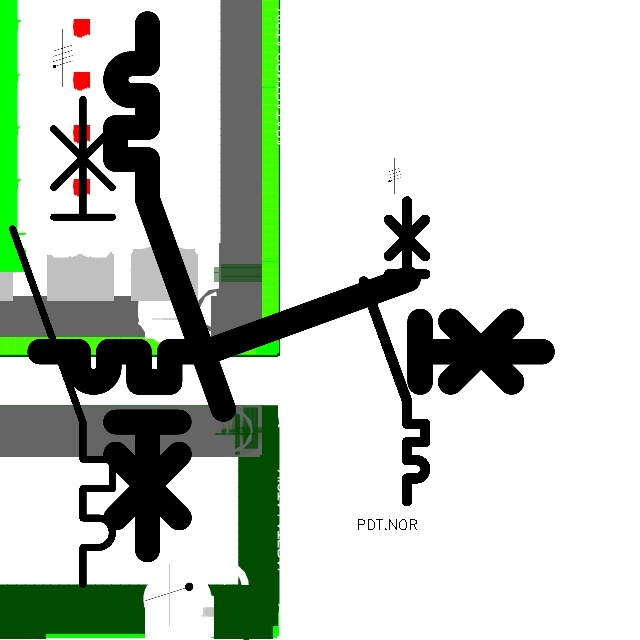interruptor_termomagnetico: (102, 10, 237, 563), (27, 266, 555, 395), (0, 86, 125, 596), (356, 193, 433, 509)
